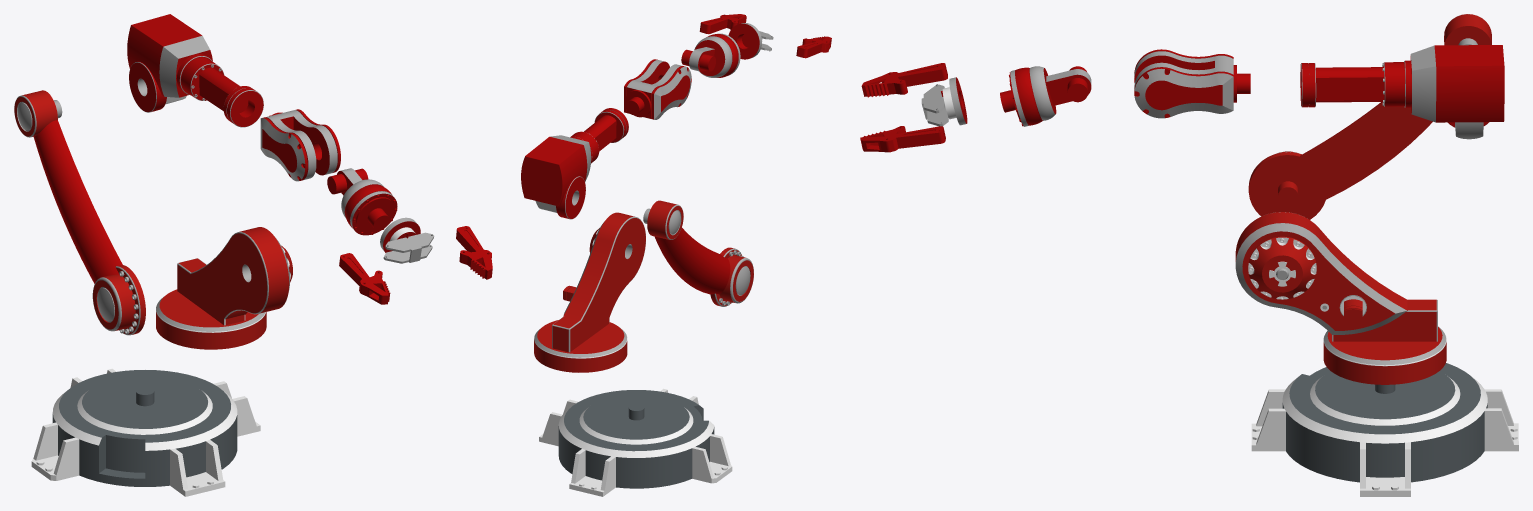
The model's file is Robot_Arm_ex.glb.
3 views of the same model, side by side, from view 1: azimuth 30°, elevation 25°; view 2: azimuth 150°, elevation 25°; view 3: azimuth 270°, elevation 25° (orthographic). The views are drawn at different scales.
Parts seen in each view (by area): view 1: base.001, Part2.001, base, Part4.001, Part3.001, Part3.002, Part6.001, Part5, Part5.001, Part4, Part3, Part2 (+4 smaller); view 2: base.001, Part2.001, Part4.001, base, Part3.001, Part5.001, Part3.002, Part5, Part6.001, Part3, Part2, Part6 (+4 smaller); view 3: base.001, Part2.001, Part3.002, Part4.001, base, Part2, Part5, Part5.001, Part4, Part6.001, Part8.001, Part8 (+3 smaller).
Boxes of the visible parts, box(x1,y1,x2,y2) form: base.001: box(52, 370, 237, 486); Part2.001: box(156, 227, 292, 349); base: box(31, 368, 260, 496); Part4.001: box(127, 14, 263, 126); Part3.001: box(33, 120, 122, 283); Part3.002: box(14, 90, 145, 334); Part6.001: box(327, 168, 397, 235); Part5: box(260, 110, 337, 181); Part5.001: box(262, 109, 340, 180); Part4: box(129, 35, 263, 127); Part3: box(14, 95, 140, 335); Part2: box(156, 232, 289, 331); base.001: box(558, 390, 714, 488); Part2.001: box(534, 212, 645, 372); Part4.001: box(521, 108, 628, 218); base: box(539, 388, 732, 496); Part3.001: box(655, 228, 730, 294); Part5.001: box(624, 59, 691, 119); Part3.002: box(647, 200, 753, 306); Part5: box(627, 60, 691, 119); Part6.001: box(681, 34, 738, 77); Part3: box(643, 204, 753, 306); Part2: box(534, 216, 645, 357); Part6: box(689, 33, 740, 77); base.001: box(1282, 363, 1487, 482); Part2.001: box(1235, 212, 1446, 384); Part3.002: box(1248, 14, 1491, 219); Part4.001: box(1300, 45, 1504, 127); base: box(1251, 375, 1518, 496); Part2: box(1235, 212, 1445, 365); Part5: box(1134, 51, 1233, 118); Part5.001: box(1134, 49, 1250, 118); Part4: box(1301, 45, 1483, 139); Part6.001: box(1000, 66, 1091, 126); Part8.001: box(861, 63, 947, 97); Part8: box(860, 126, 945, 152).
Bounding box in the file's own units: 0.4282 × 0.6737 × 0.9627.
